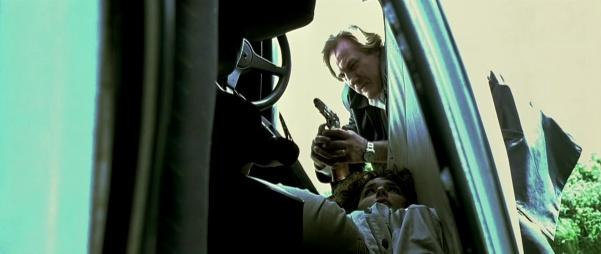Gun: (313, 98, 342, 132)
